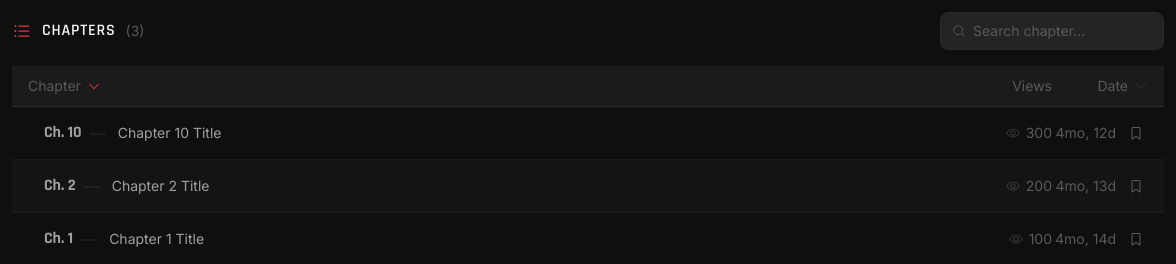
Test case: ChapterList › filters chapters by search query — smart numeric match
The width and height of the screenshot is (1176, 264).
In the field with placeholder "Search chapter...": (1052, 31) top-left (940, 12), bottom-right (1164, 50), type "1"
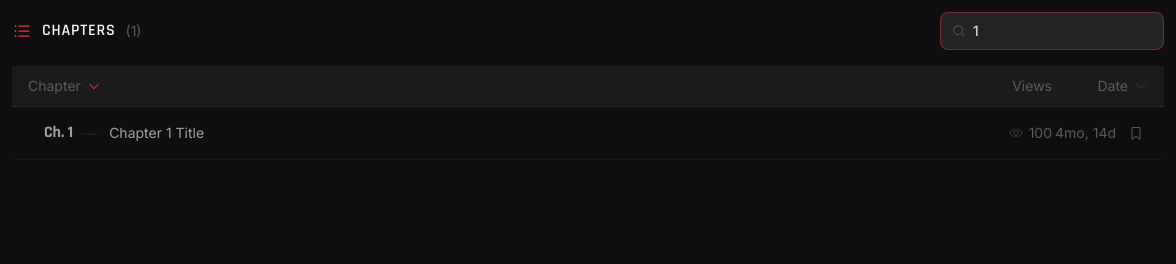
expect the text "Ch. 1" is shown: met, box top-left (44, 121), bottom-right (73, 145)
expect the link "Ch. 10" is gone: met
expect the link "Ch. 2" is gone: met
